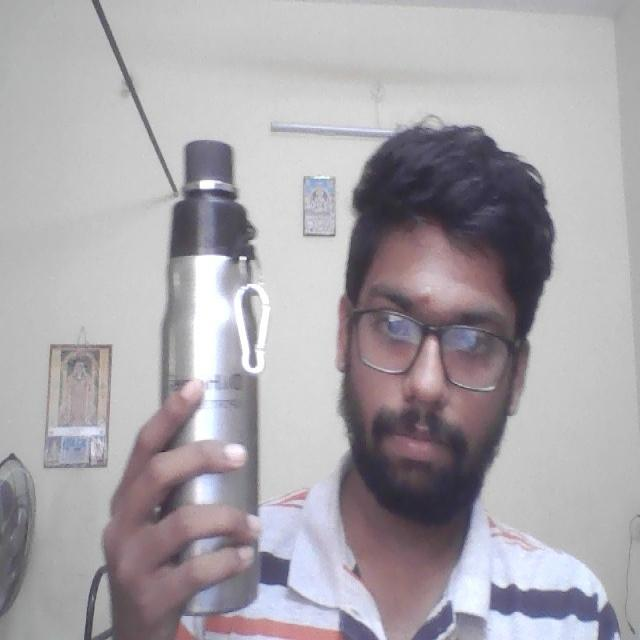Drinking: (153, 131, 274, 622)
